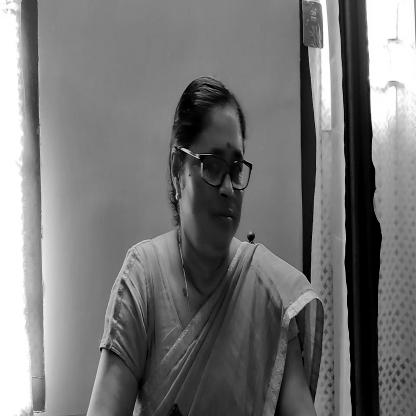Distracted: (172, 70, 249, 269)
